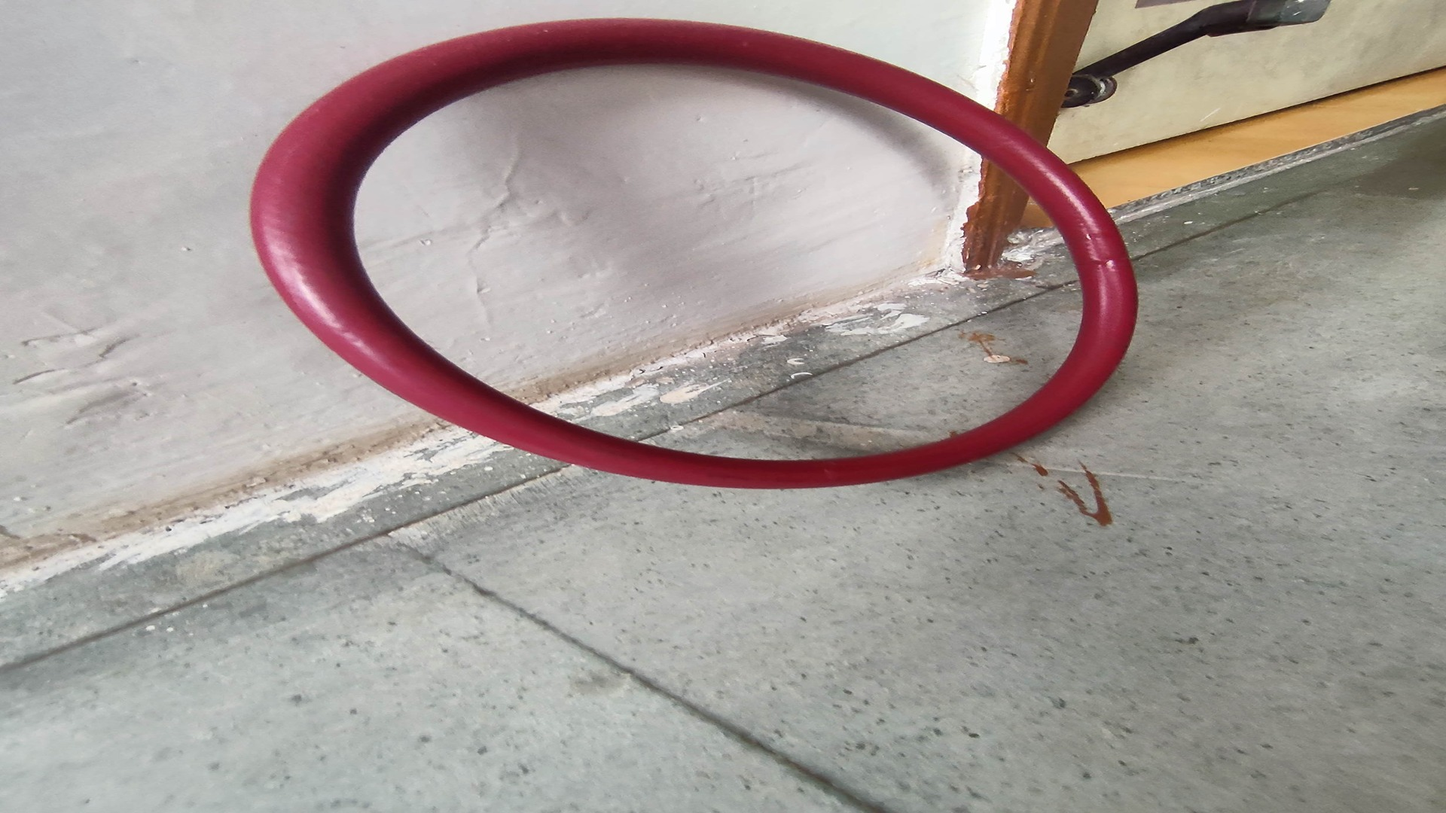Red ring: (250, 20, 1138, 486)
